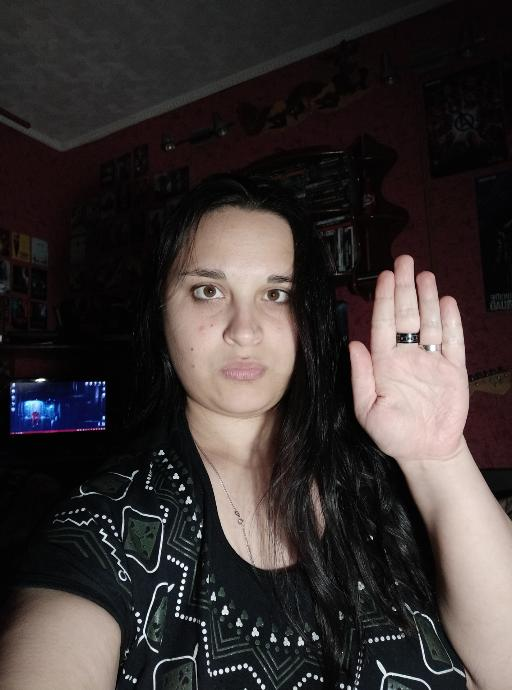stop: (343, 251, 475, 468)
